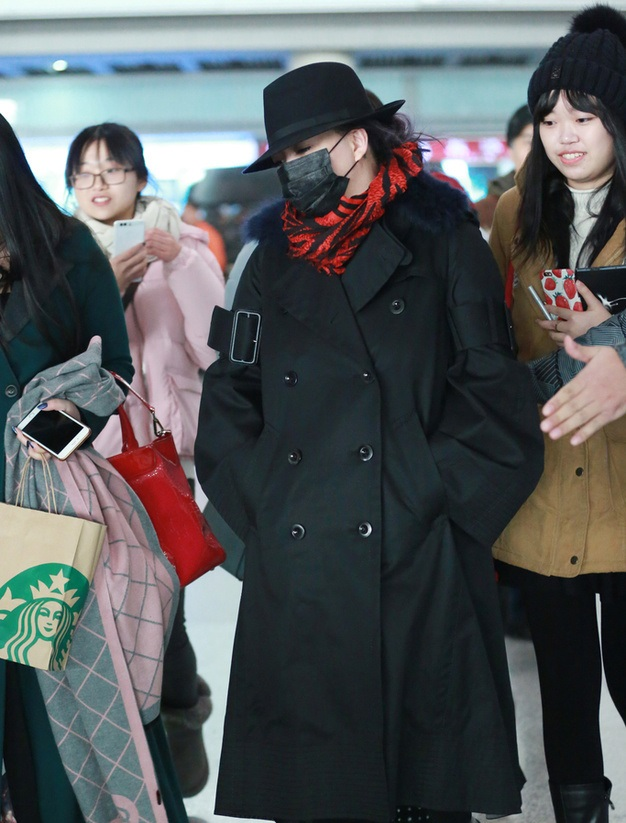face: (539, 77, 611, 179), (73, 141, 132, 224), (514, 123, 546, 176)
face_mask: (273, 114, 347, 216)
